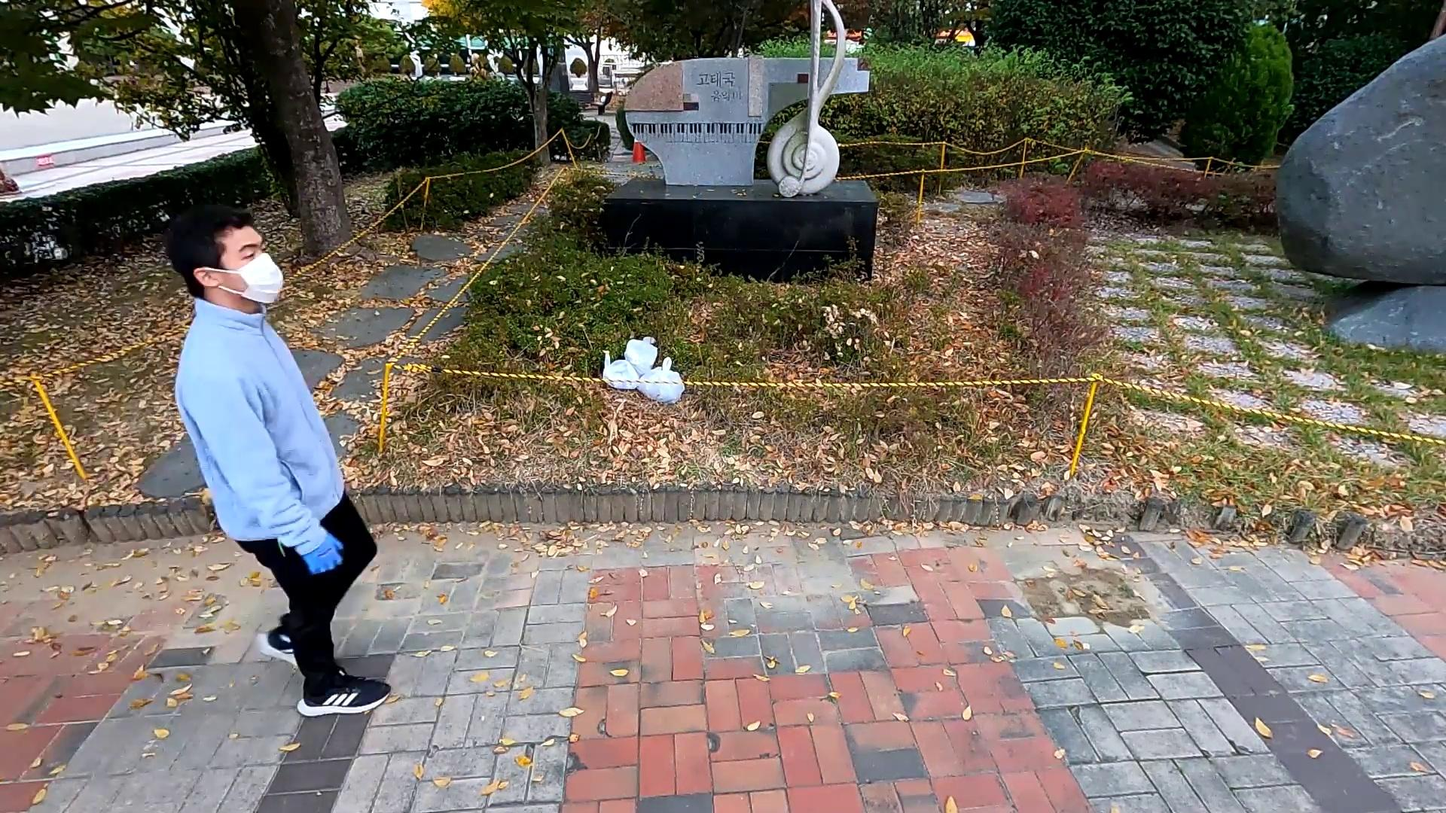person: (154, 196, 399, 726)
trash: (638, 357, 685, 405), (602, 349, 641, 391), (624, 337, 658, 375)
